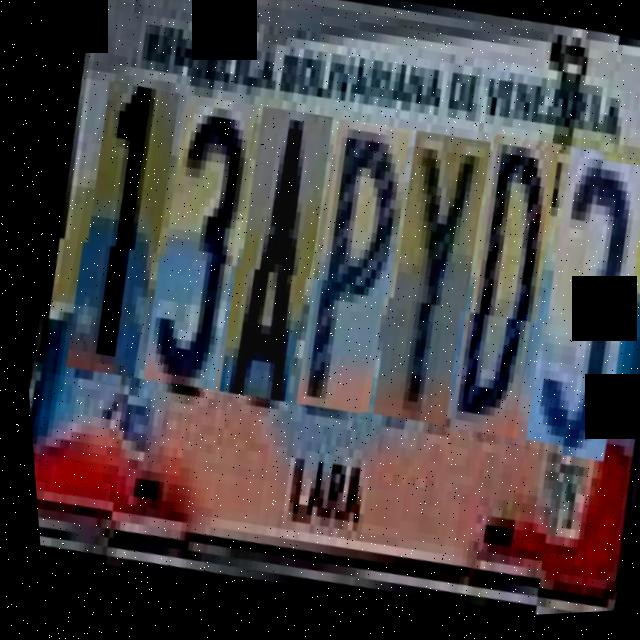1: (29, 77, 205, 395)
3: (110, 91, 282, 400), (487, 150, 640, 472)
A: (183, 104, 356, 413)
D: (414, 138, 585, 454)
P: (262, 119, 434, 428)
Y: (336, 132, 513, 442)
